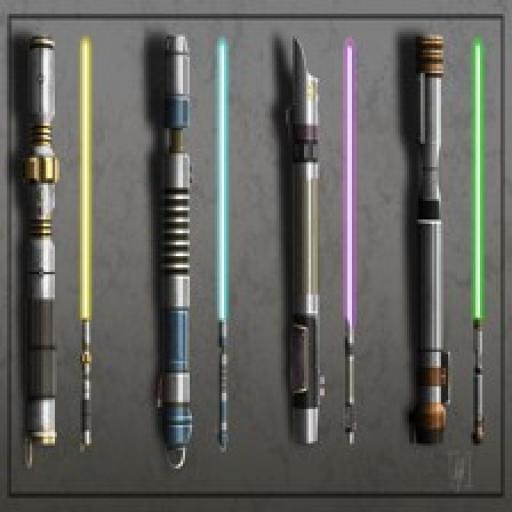lightsaber: (283, 38, 328, 447), (160, 35, 193, 469), (416, 36, 451, 445), (27, 36, 58, 468), (76, 38, 95, 446), (343, 42, 359, 444), (472, 43, 487, 447), (216, 40, 229, 452)
